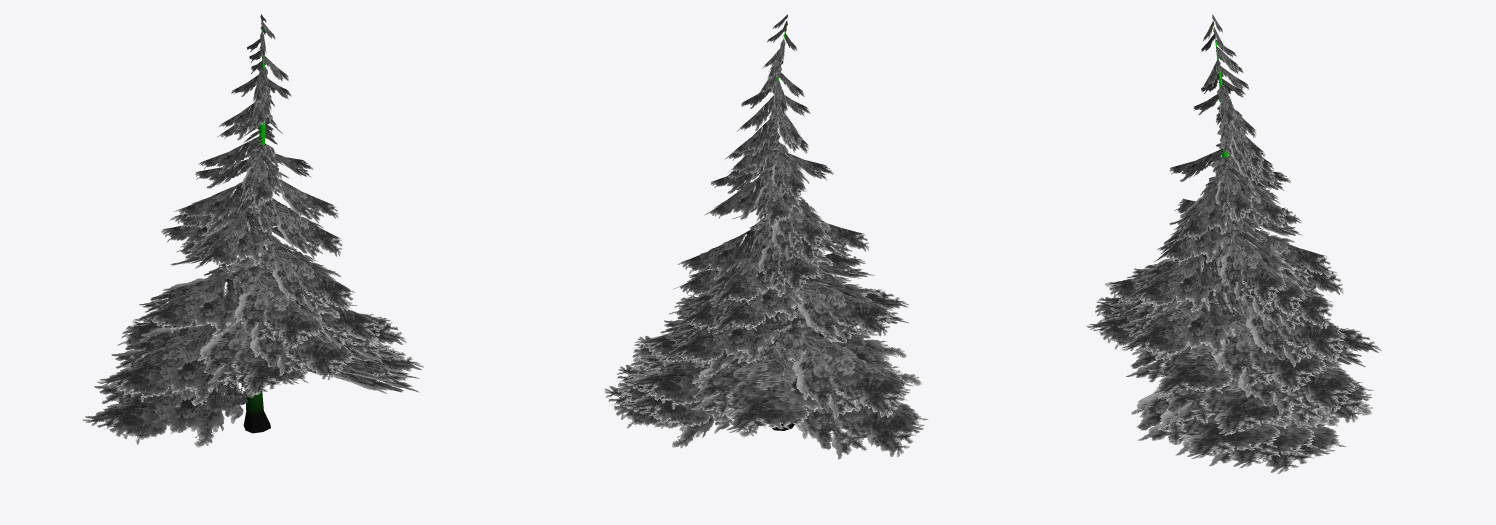
File: tree_generated1.fbx
The picture shows the model from 3 angles, left to right: view 1: azimuth 30°, elevation 25°; view 2: azimuth 150°, elevation 25°; view 3: azimuth 270°, elevation 25°; orthographic projection. The views are drawn at different scales.
Visible parts, largest first — view 1: Tree 2 LOD 0; view 2: Tree 2 LOD 0; view 3: Tree 2 LOD 0.
Part boxes in pixels (<box>): Tree 2 LOD 0: <box>82,14,423,447</box>; Tree 2 LOD 0: <box>604,14,928,459</box>; Tree 2 LOD 0: <box>1086,14,1381,473</box>.
Size of the model in its own units: 1283 by 1265 by 1219.
